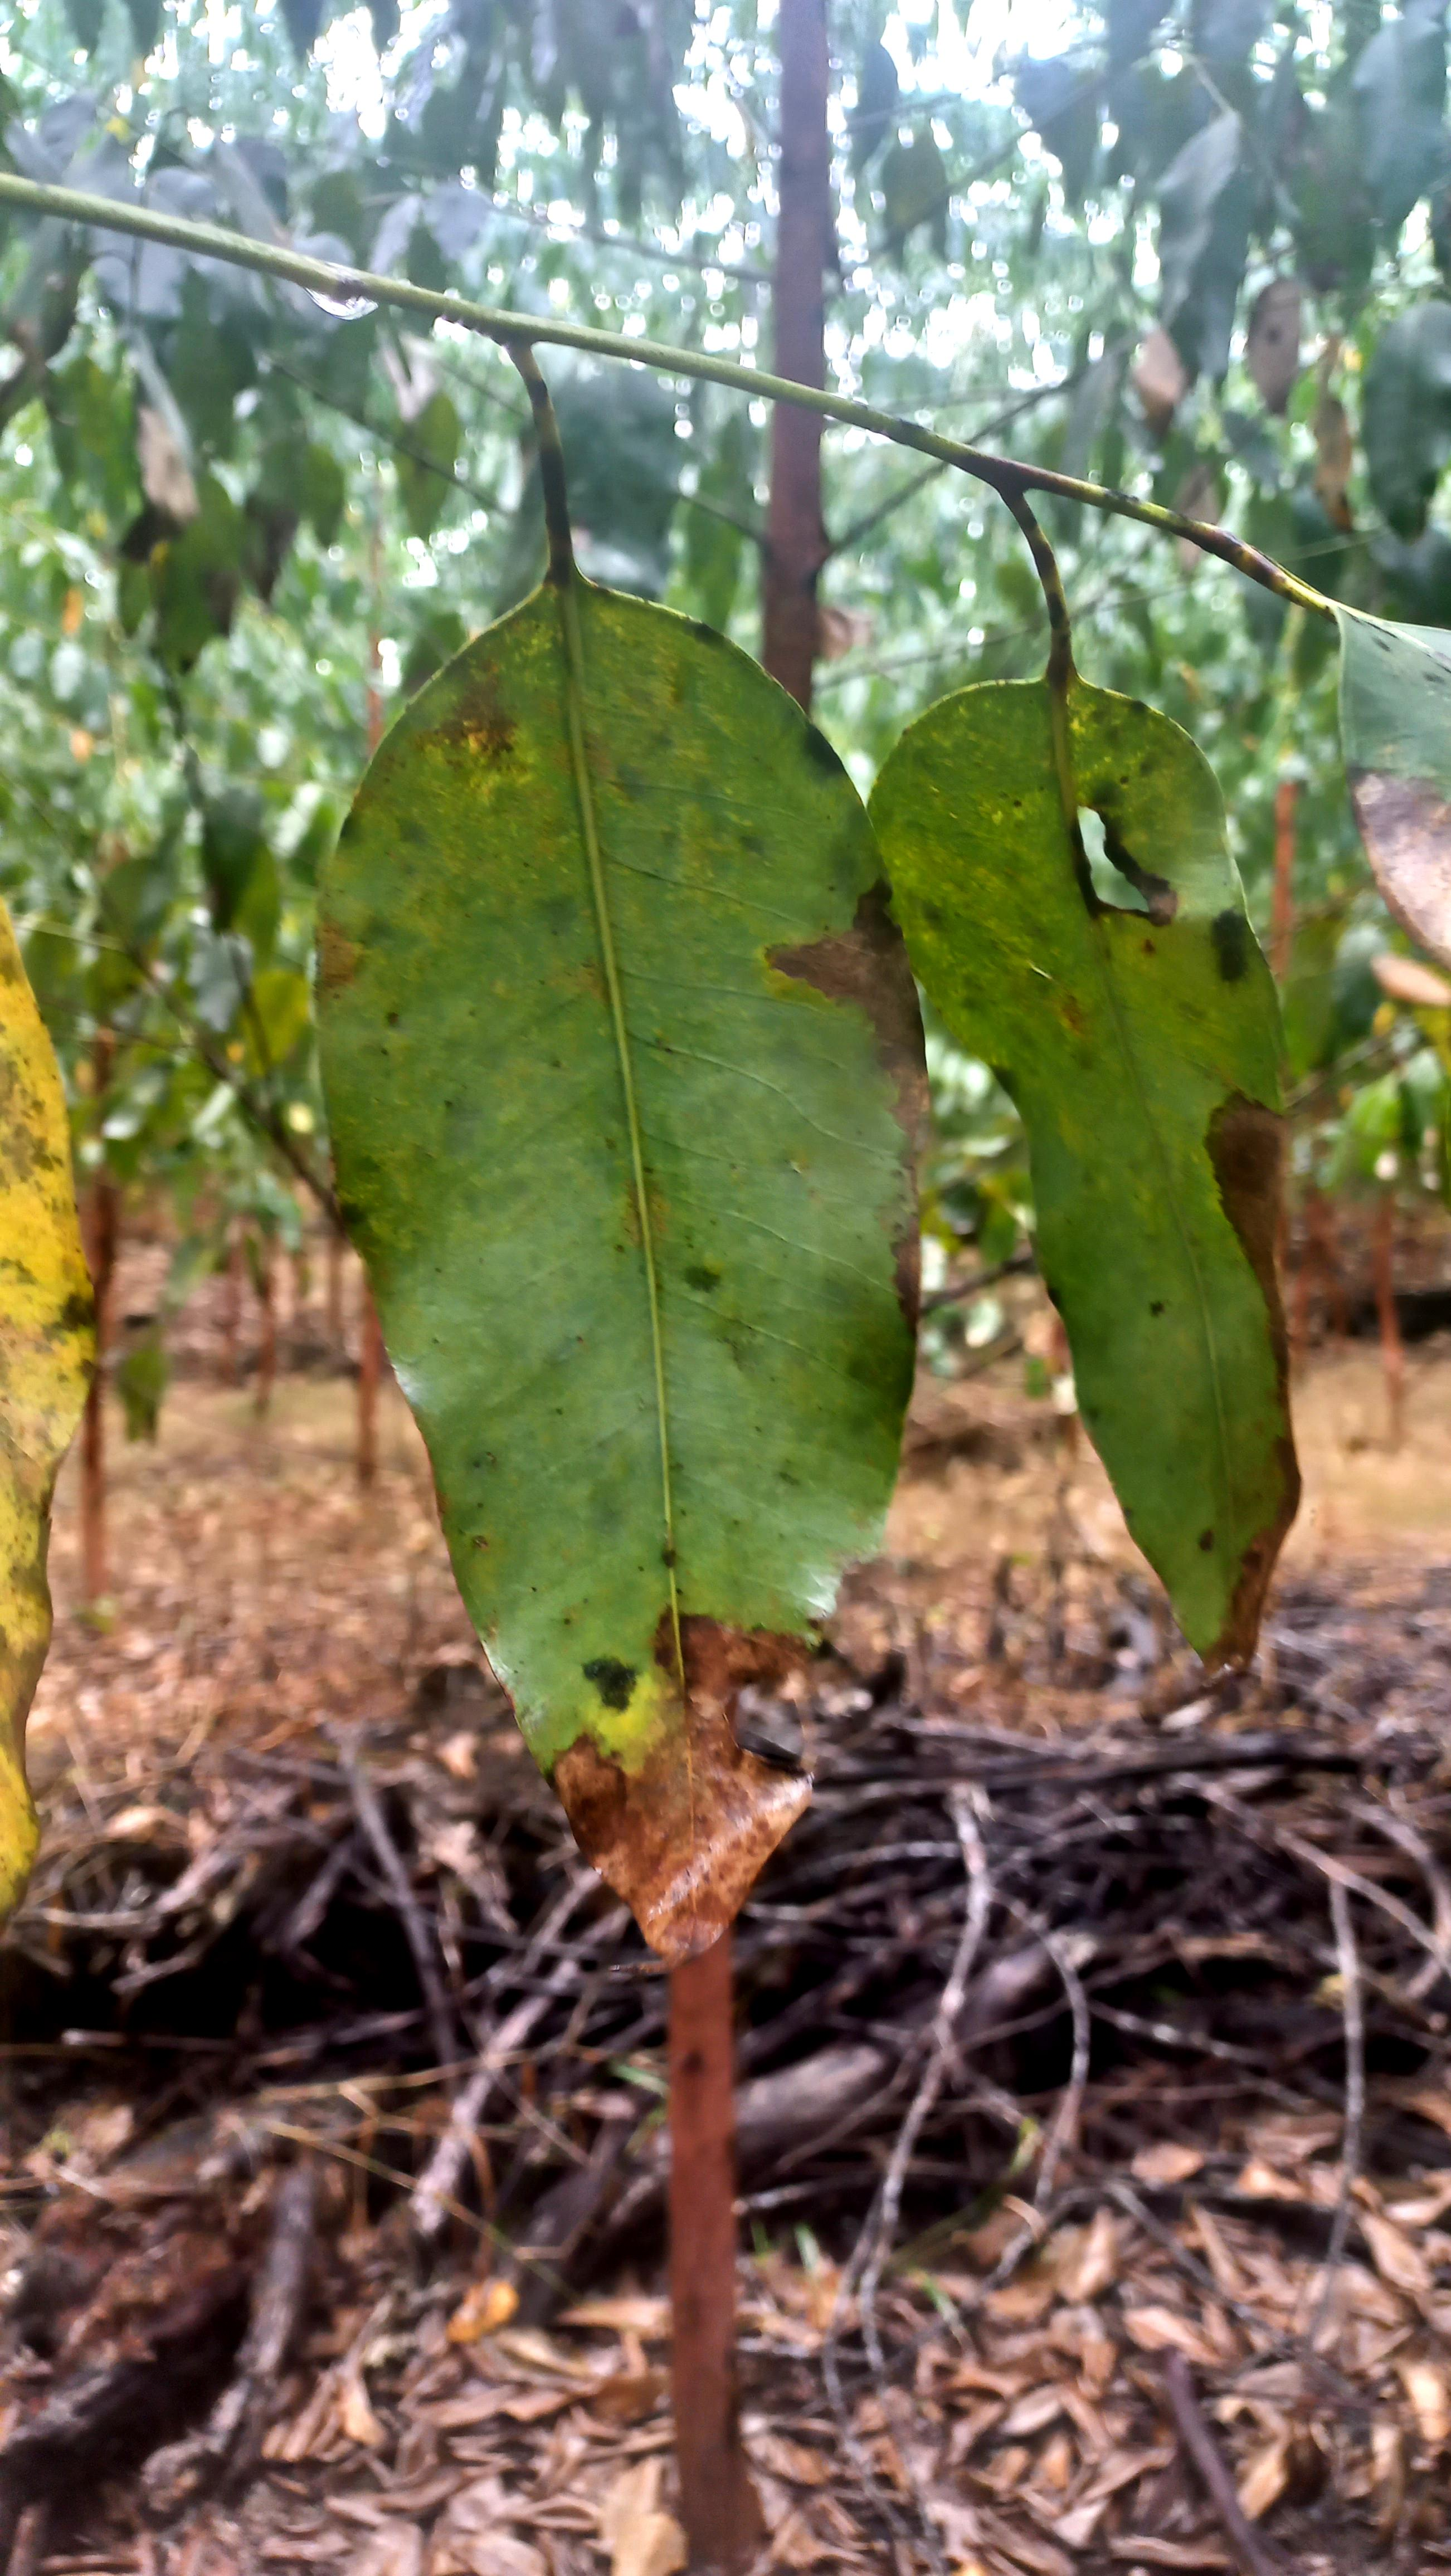Cylindrocladium: (457, 1592, 970, 1957), (0, 925, 173, 1916), (754, 814, 970, 1391), (1148, 1065, 1322, 1737)
